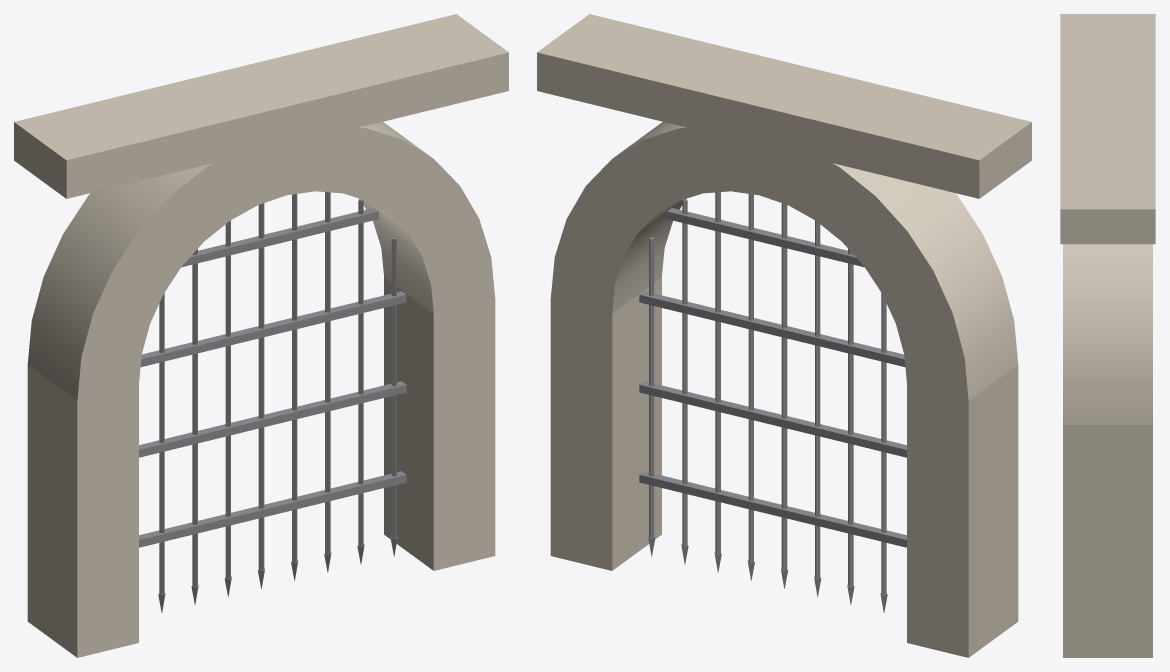
Rendered from portcullis.glb.
3 renders of one model, left to right at view 1: azimuth 30°, elevation 25°; view 2: azimuth 150°, elevation 25°; view 3: azimuth 270°, elevation 25°, orthographic. The views are drawn at different scales.
Parts seen in each view (by area): view 1: OUT; view 2: OUT; view 3: OUT.
Part boxes in pixels (bbox=[...]): OUT: bbox=[14, 14, 508, 657]; OUT: bbox=[537, 14, 1031, 657]; OUT: bbox=[1060, 14, 1155, 657].
Size of the model in its own units: 3.6 by 3.9 by 0.74.
